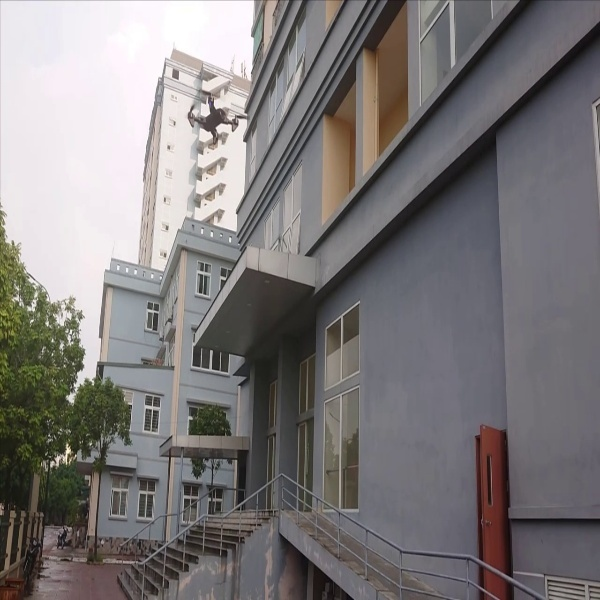drone: (177, 88, 245, 148)
